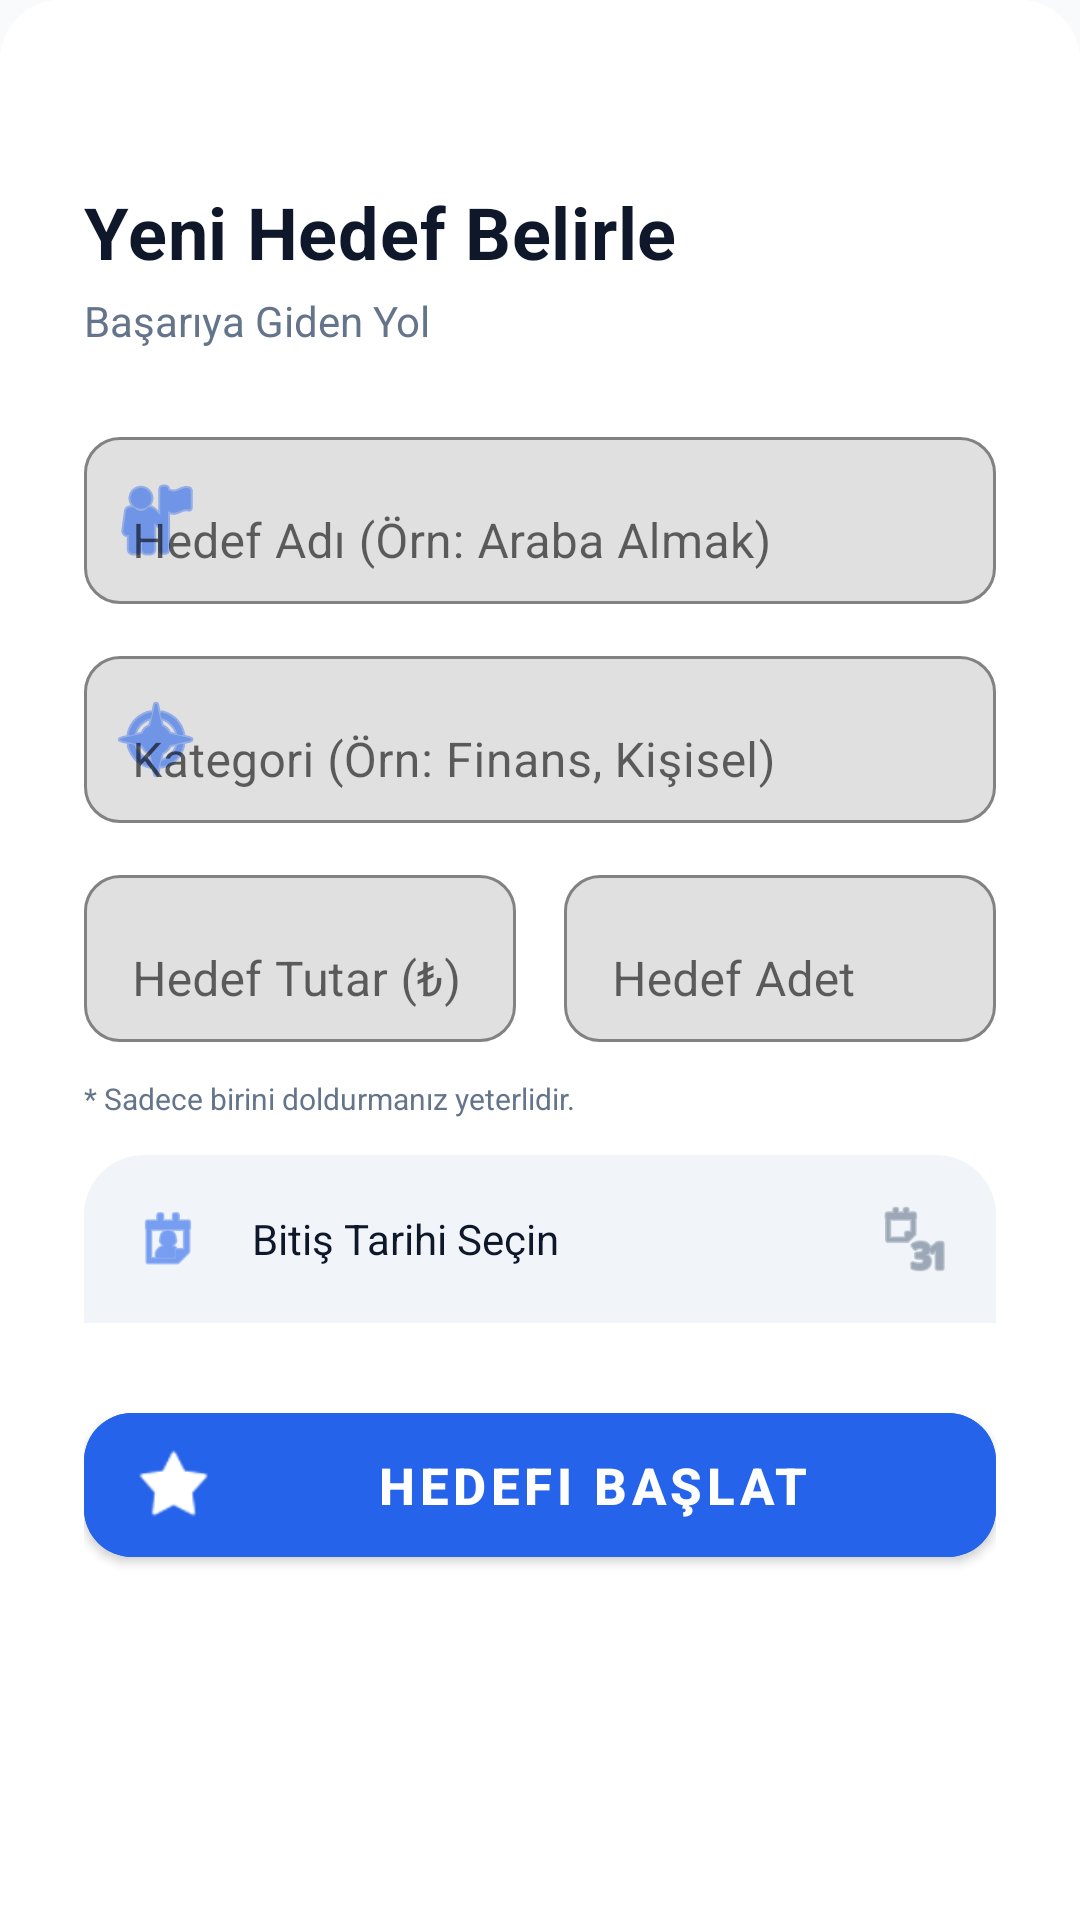

Where icons sit on this 1080px x 1920px app screen, as (x1, y1, x2, y2):
calendar: (145, 1212, 191, 1265)
month: (884, 1207, 945, 1271)
